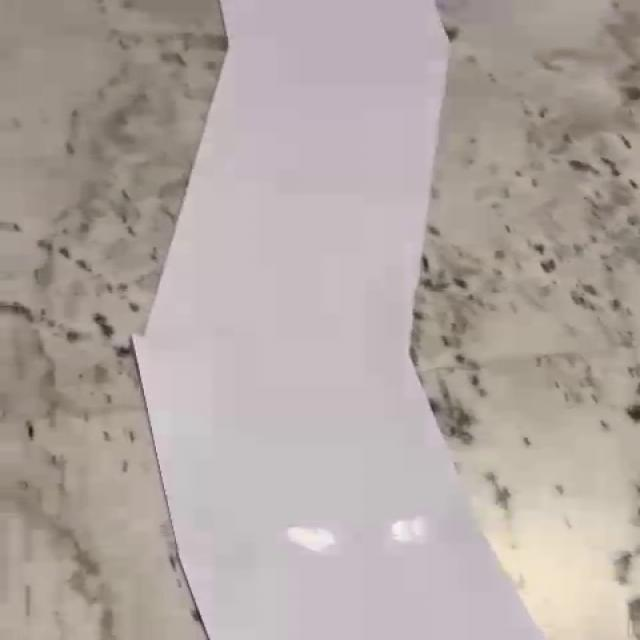road: (135, 0, 544, 640)
